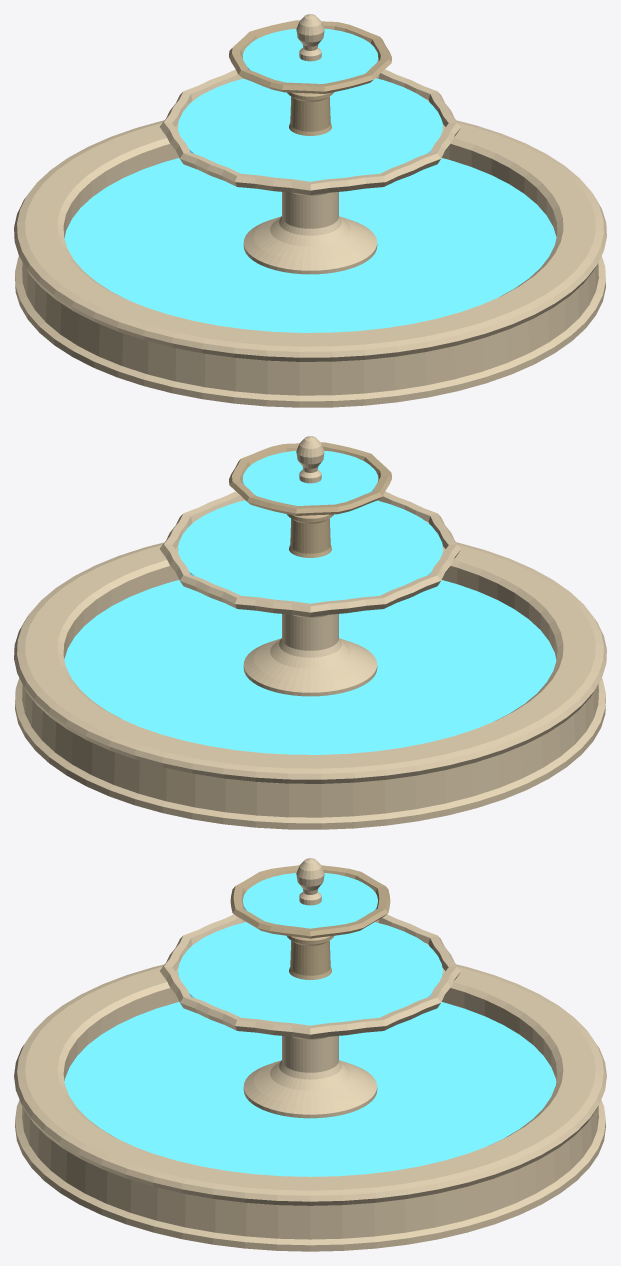
Rendered from fountain_tiered.fbx.
3 views of the same model, one above another, from view 1: azimuth 30°, elevation 25°; view 2: azimuth 150°, elevation 25°; view 3: azimuth 270°, elevation 25° (orthographic).
Visible parts, largest first — view 1: fountain_tiered_LOD0; view 2: fountain_tiered_LOD0; view 3: fountain_tiered_LOD0.
Boxes of the visible parts, box(x1,y1,x2,y2) form: fountain_tiered_LOD0: box(14, 14, 606, 407); fountain_tiered_LOD0: box(14, 436, 606, 829); fountain_tiered_LOD0: box(14, 858, 606, 1251).
Size of what is drawn, in the model's own units: 5.86 by 2.92 by 5.86.
